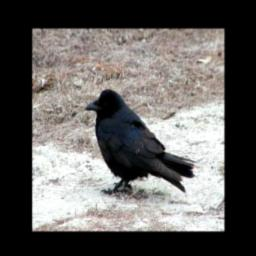Crow: (86, 87, 197, 196)
